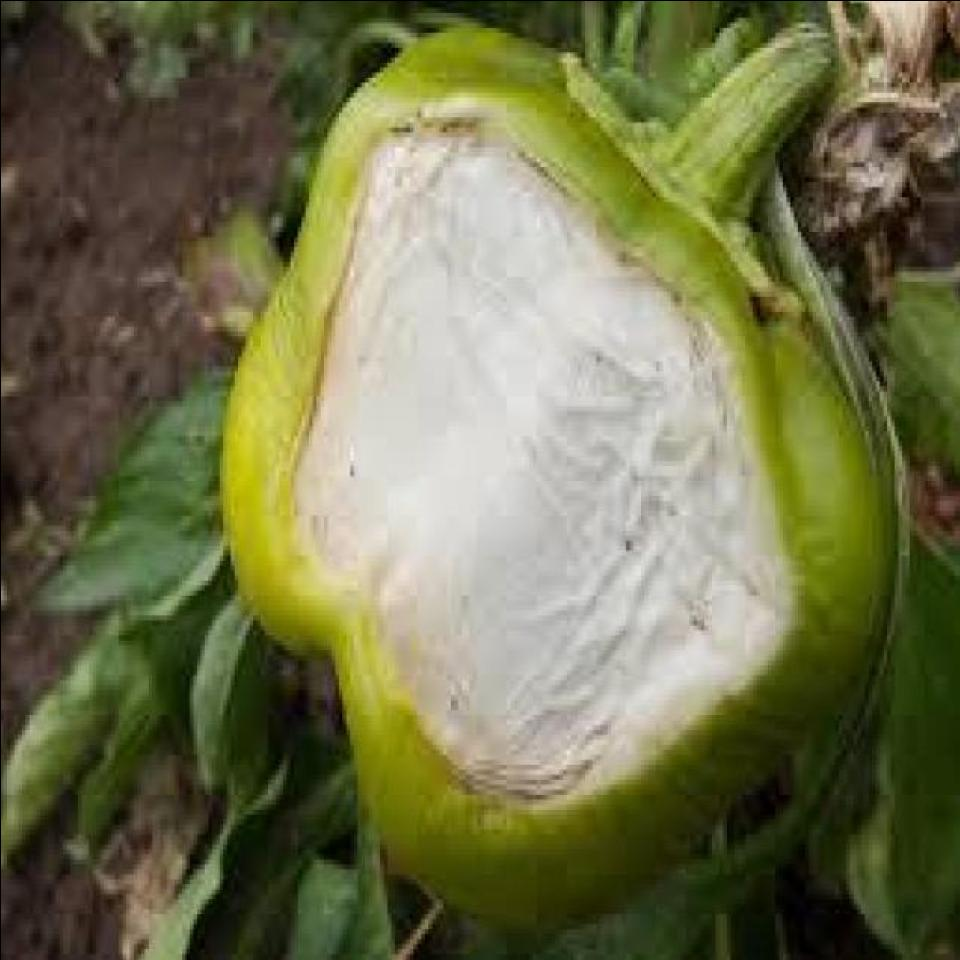Sunscald: (328, 79, 709, 729)
